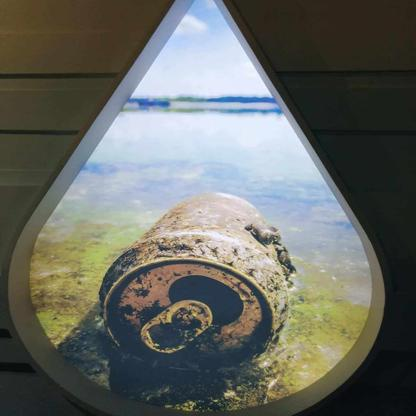can: (101, 177, 295, 367)
